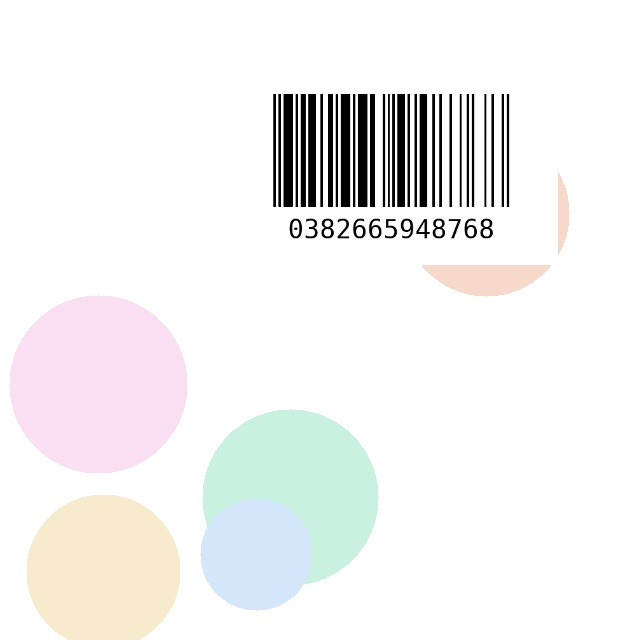barcode: (225, 87, 558, 265)
